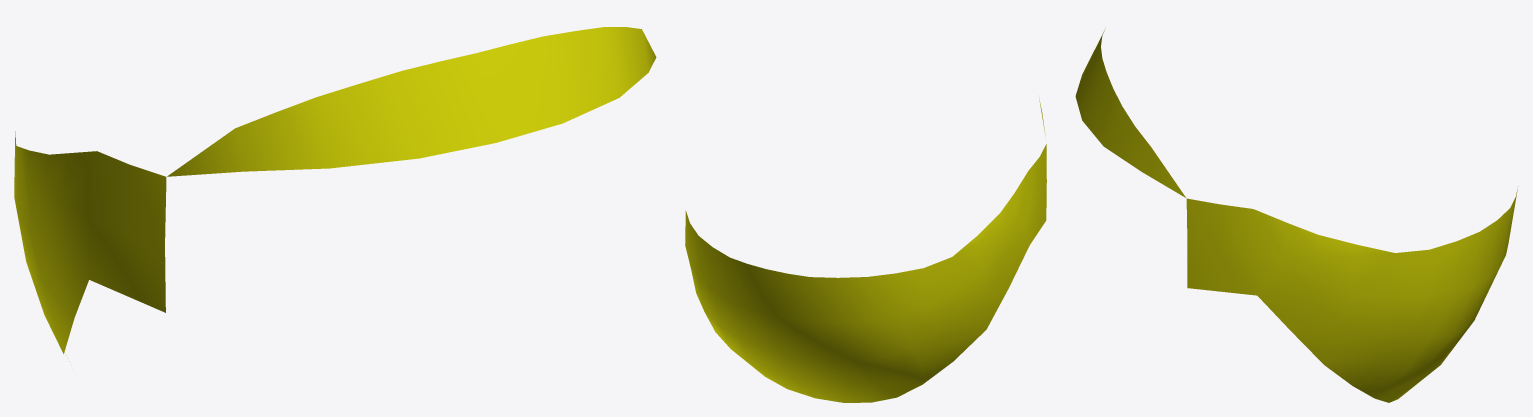
Rendered from SubHair2_132.glb.
The picture shows the model from 3 angles, left to right: view 1: azimuth 30°, elevation 25°; view 2: azimuth 150°, elevation 25°; view 3: azimuth 270°, elevation 25°; orthographic projection. The views are drawn at different scales.
Visible parts, largest first — view 1: subhairtest.001; view 2: subhairtest.001; view 3: subhairtest.001.
Boxes of the visible parts, x1,y1,x2,y2 form: subhairtest.001: (14, 27, 656, 361); subhairtest.001: (685, 97, 1046, 402); subhairtest.001: (1075, 30, 1518, 402).
Size of the model in its own units: 52.93 by 47.06 by 57.28.
